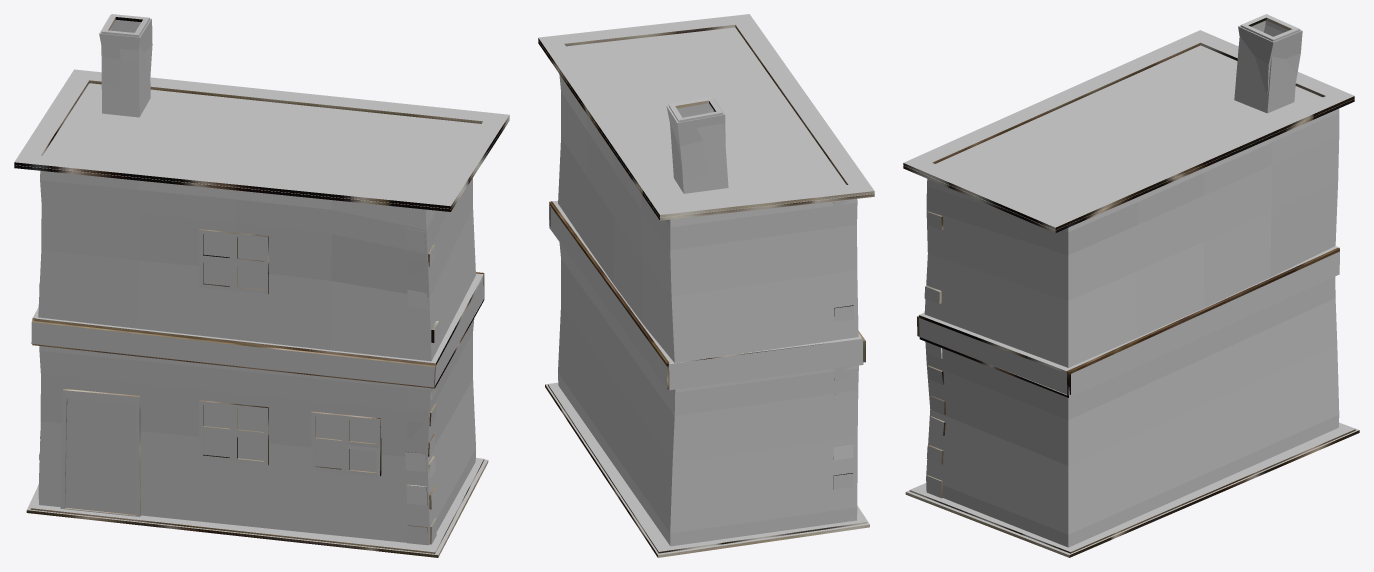
File: House2Storey.fbx
3 views of the same model, side by side, from view 1: azimuth 30°, elevation 25°; view 2: azimuth 150°, elevation 25°; view 3: azimuth 270°, elevation 25° (orthographic). The views are drawn at different scales.
Visible parts, largest first — view 1: Cube.001; view 2: Cube.001; view 3: Cube.001.
Boxes of the visible parts, x1=… form: Cube.001: x1=14, y1=14, x2=509, y2=557; Cube.001: x1=538, y1=14, x2=874, y2=557; Cube.001: x1=903, y1=14, x2=1359, y2=557.
Size of the model in its own units: 2555 by 2476 by 2494.
